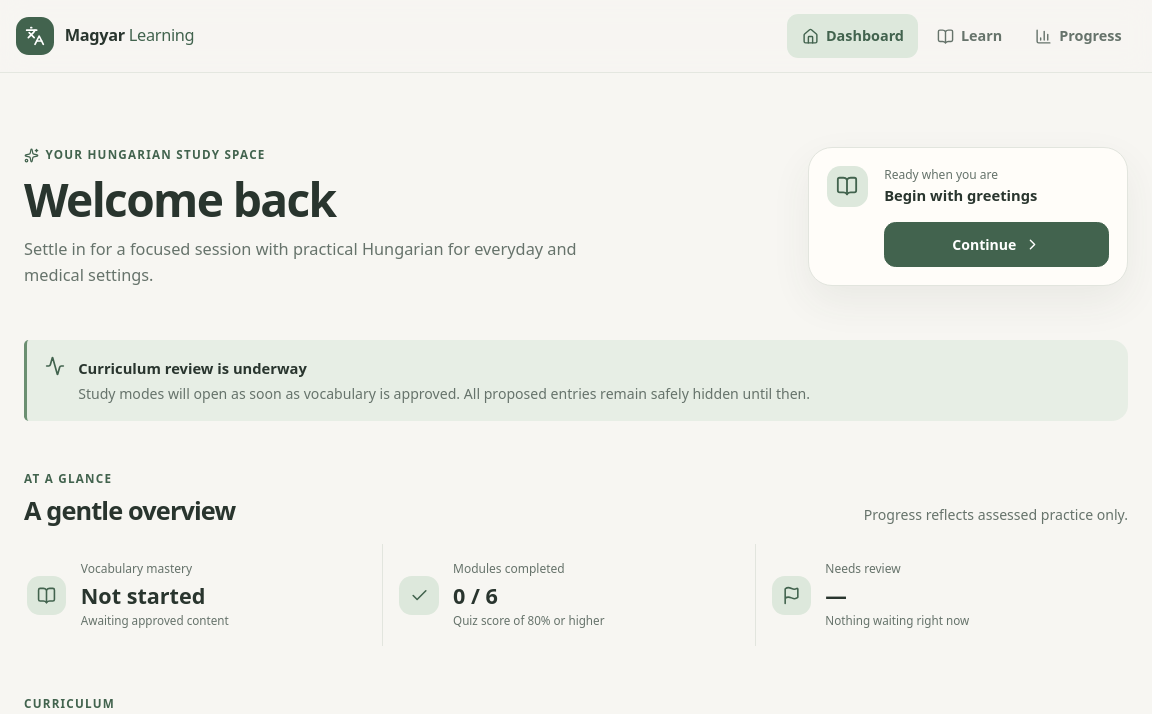
Test: navigates among Dashboard, Learn, and Progress
This screenshot has width=1152, height=714.
Expected: the heading "Welcome back" is shown, [24,168,336,231]
Click the button "Learn" at point(970, 36), box [922,14,1017,58]
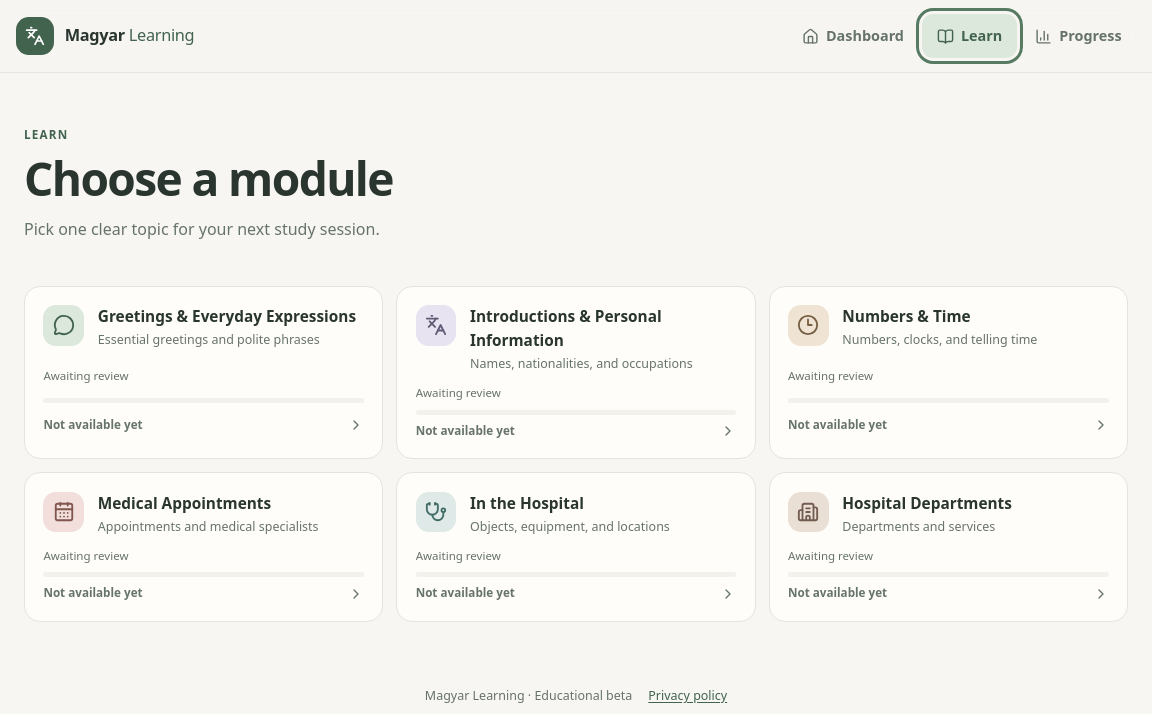
Now the heading "Choose a module" is shown, box [24,147,393,210]
Click the button "Progress" at point(1078, 36), box [1021,14,1136,58]
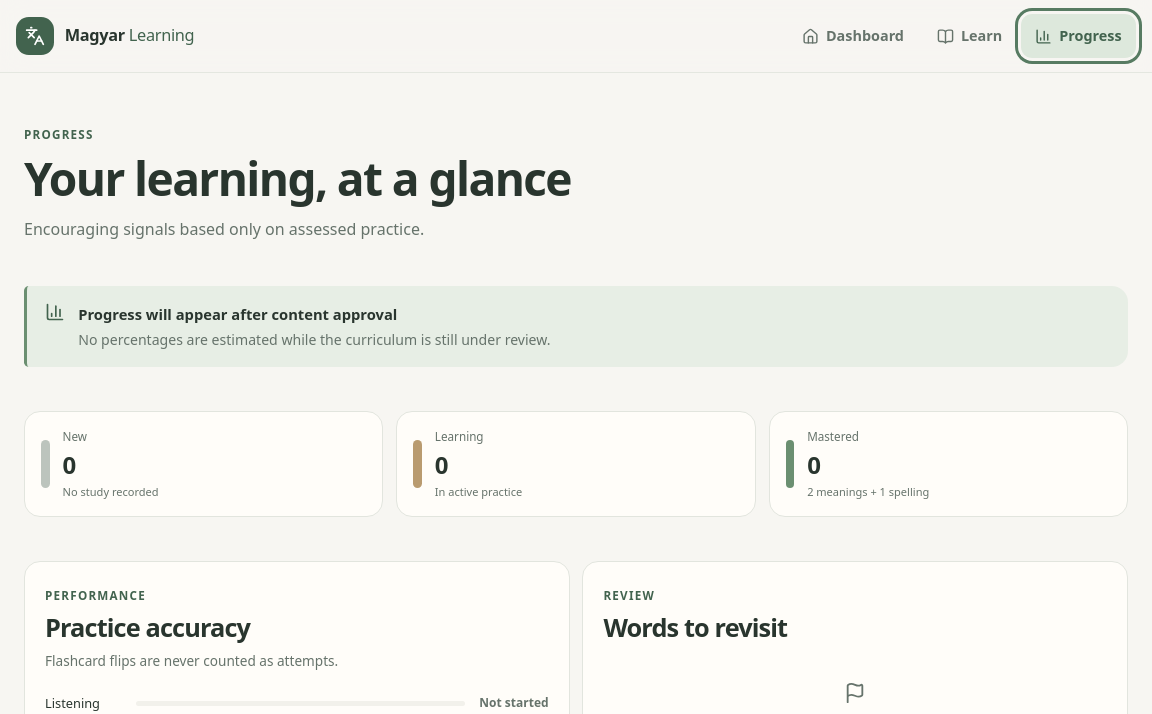
Now the heading "Your learning, at a glance" is shown, box [24,147,571,210]
